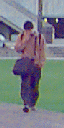person: (14, 22, 42, 113)
